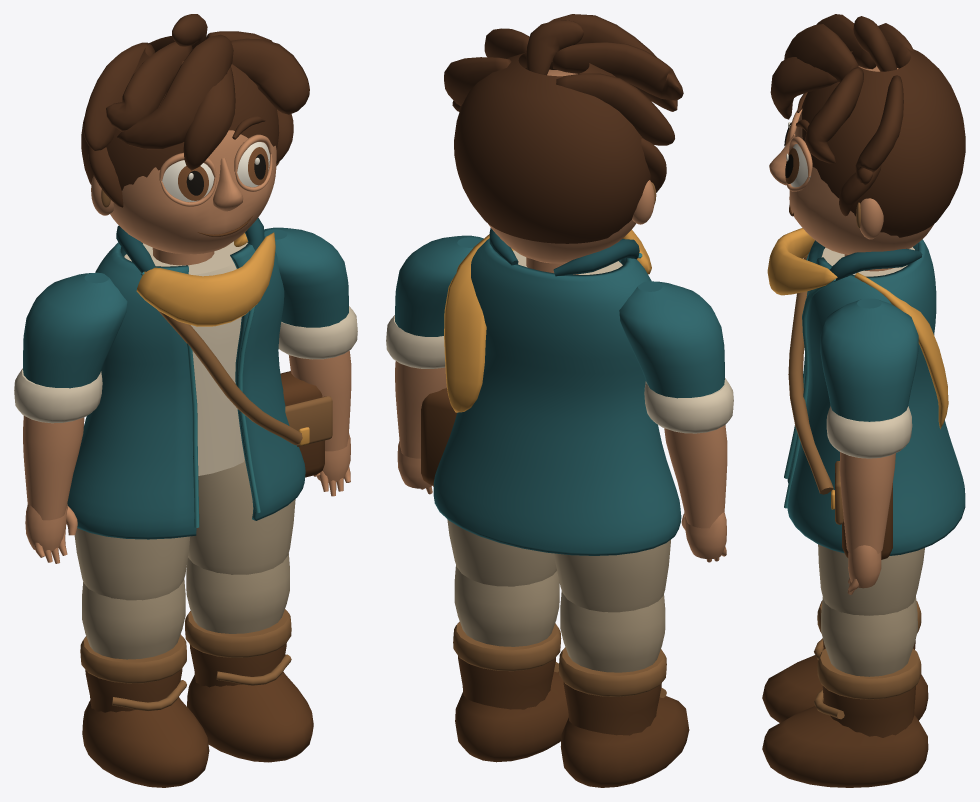
File: hero-v1.glb
3 renders of one model, left to right at view 1: azimuth 30°, elevation 25°; view 2: azimuth 150°, elevation 25°; view 3: azimuth 270°, elevation 25°, orthographic.
Parts seen in each view (by area): view 1: Coat_manifold-open-front, left_sleeve, left_boot-foot, Face_continuous-cheek-chin-brow, right_boot-foot, right_trouser-thigh, Linen_shirt-body, Ochre_scarf-drape, left_trouser-thigh, right_sleeve, right_trouser-calf, left_trouser-calf (+30 smaller); view 2: Coat_manifold-open-front, Hair_cap-shaped-hairline, left_sleeve, left_boot-foot, left_trouser-calf, right_trouser-calf, right_boot-foot, left_trouser-thigh, right_sleeve, Scarf_soft-tail, left_forearm, right_trouser-thigh (+20 smaller); view 3: Coat_manifold-open-front, Hair_cap-shaped-hairline, right_sleeve, right_boot-foot, right_trouser-calf, right_trouser-thigh, Face_continuous-cheek-chin-brow, right_forearm, right_rolled-cuff, left_boot-foot, right_boot-shaft, Ochre_scarf-drape (+20 smaller).
Part boxes in pixels (x1,y1,x2,y2): Coat_manifold-open-front: (67,236,305,539); left_sleeve: (23,272,127,388); left_boot-foot: (82,697,209,787); Face_continuous-cheek-chin-brow: (110,130,276,254); right_boot-foot: (187,671,313,762); right_trouser-thigh: (188,459,295,574); Linen_shirt-body: (124,241,247,475); Ochre_scarf-drape: (136,232,275,326); left_trouser-thigh: (74,528,190,600); right_sleeve: (247,227,348,327); right_trouser-calf: (186,553,289,633); left_trouser-calf: (82,579,185,659); Coat_manifold-open-front: (433,238,681,555); Hair_cap-shaped-hairline: (454,52,650,243); left_sleeve: (619,281,724,398); left_boot-foot: (560,696,689,787); left_trouser-calf: (560,591,665,672); right_trouser-calf: (454,565,559,646); right_boot-foot: (455,671,568,762); left_trouser-thigh: (554,540,670,612); right_sleeve: (395,235,483,336); Scarf_soft-tail: (444,234,514,412); left_forearm: (664,425,727,528); right_trouser-thigh: (447,519,556,586); Coat_manifold-open-front: (787,239,965,555); Hair_cap-shaped-hairline: (802,41,965,237); right_sleeve: (820,298,918,421); right_boot-foot: (762,702,928,787); right_trouser-calf: (821,596,917,676); right_trouser-thigh: (818,544,924,615); Face_continuous-cheek-chin-brow: (789,66,933,254); right_forearm: (839,452,895,553); right_rolled-cuff: (826,406,912,458); left_boot-foot: (762,655,928,722); right_boot-shaft: (822,686,915,737); Ochre_scarf-drape: (767,228,837,295).
Size of the model in its own units: 1.08 by 2.25 by 0.5728.
